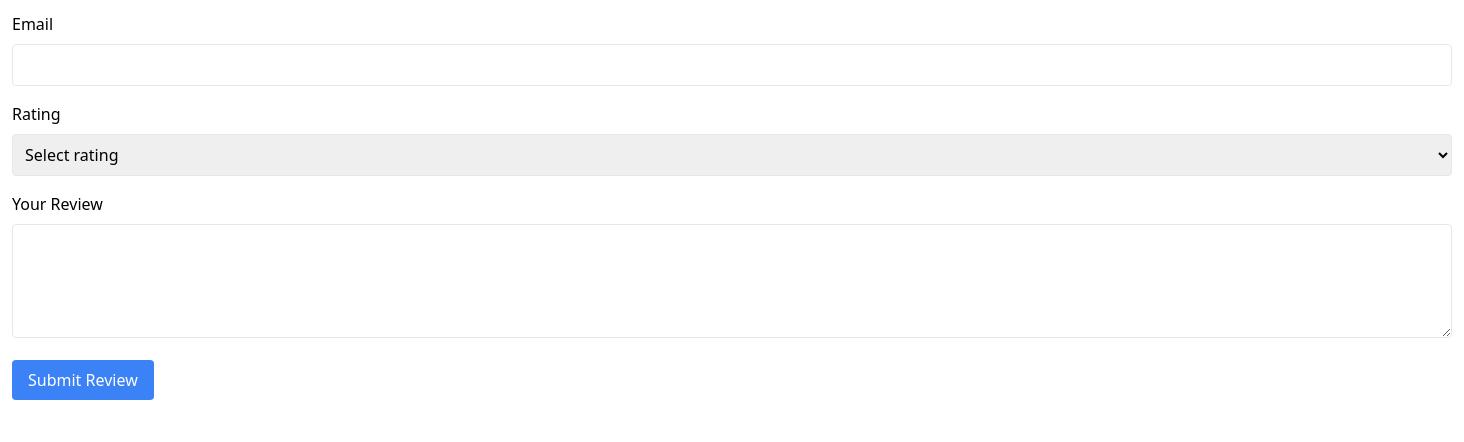
Test case: form component › shows error message when review is too short
The width and height of the screenshot is (1464, 442).
Type "test@example.com" into the field labelled "Email" at (732, 65), box [12, 44, 1452, 86]
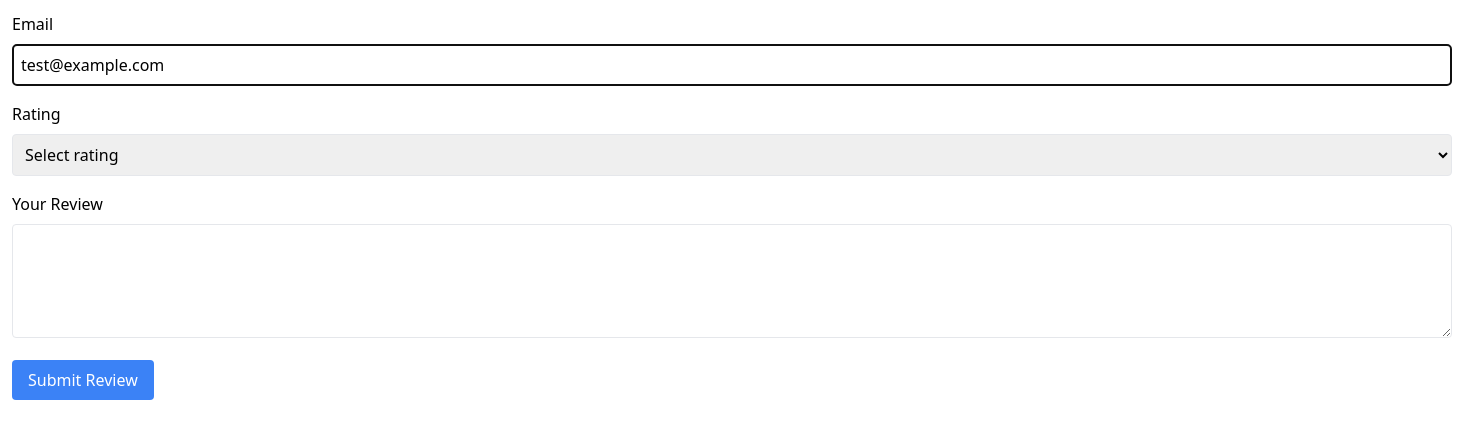
Select "5 stars" in the dropdown labelled "Rating" at (732, 155), box [12, 134, 1452, 176]
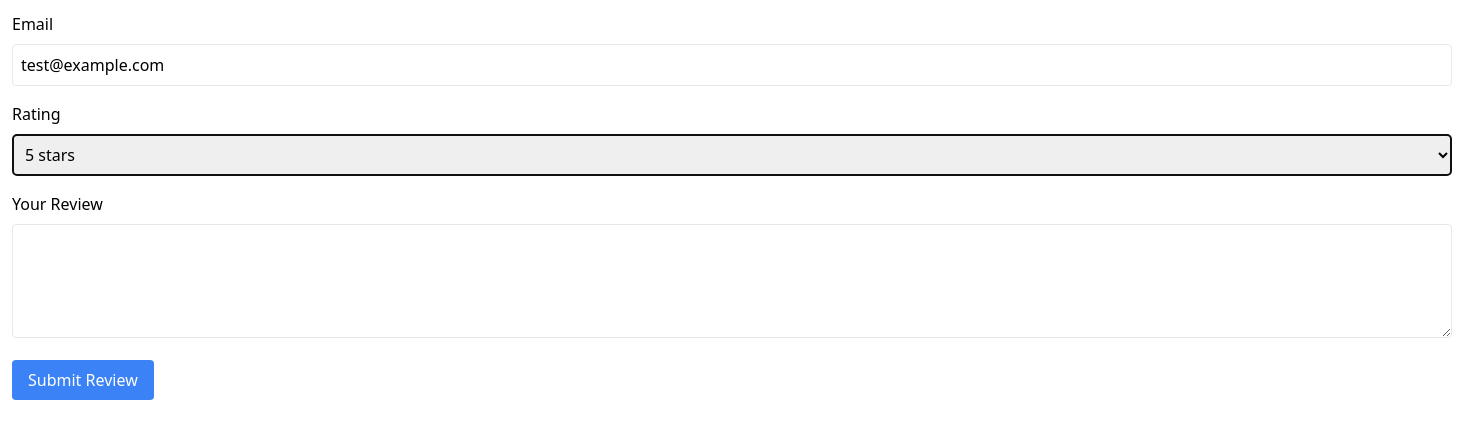
Type "Short" into the text box labelled "Your Review" at (732, 281), box [12, 224, 1452, 338]
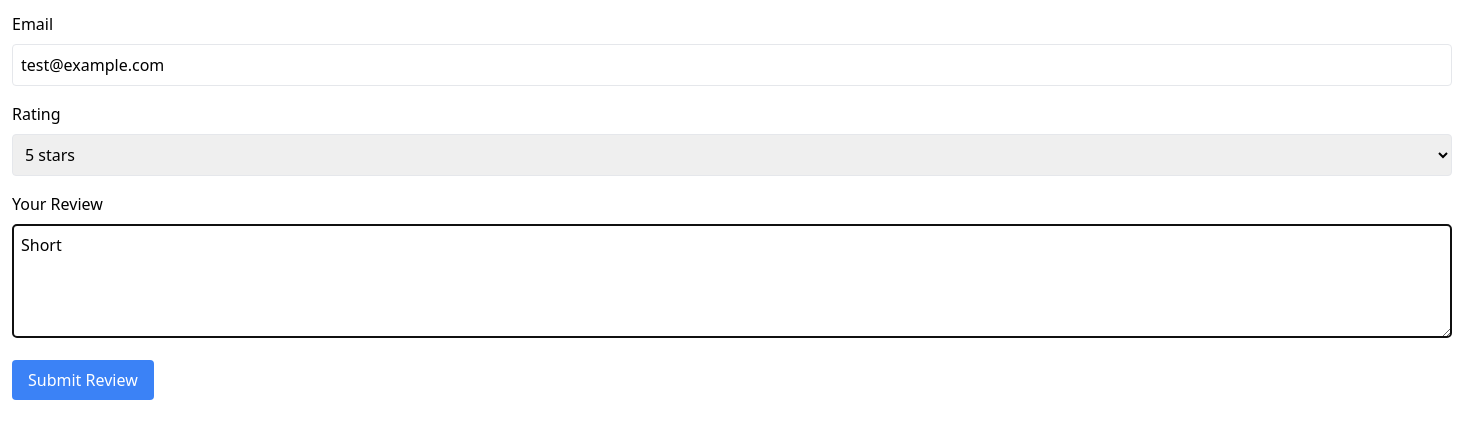
Click the button "Submit Review" at (83, 380), box [12, 360, 154, 400]
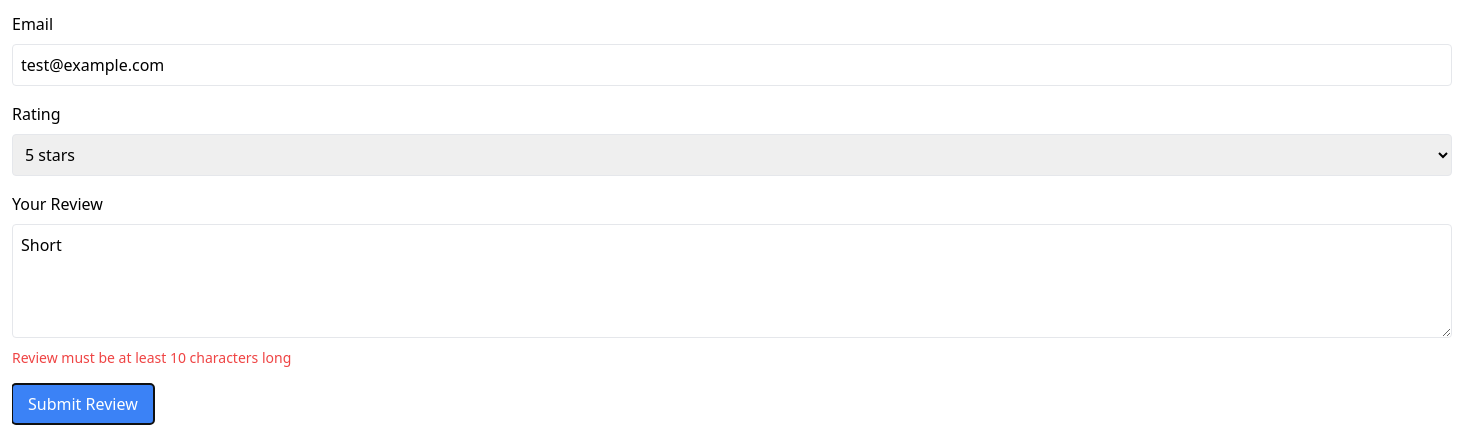
Result: the text "Review must be at least 10 characters long" is shown at [12, 348, 291, 367]
